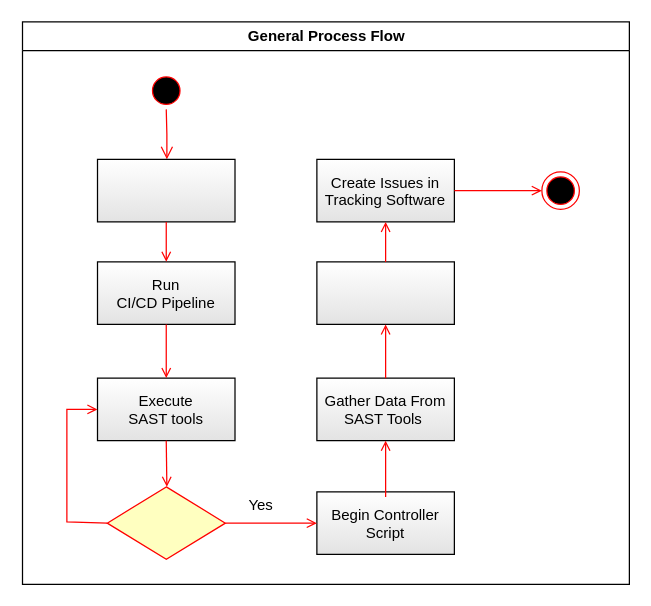
Image size: 651x606. Some labels were removed from this diagram. Each missing label, with the centre of its shape:
"Nightly Timer or Developer Merge Request" belongs at point 165,190.
"Process Data and Assemble Payloads" belongs at point 385,292.
"tools complete" belongs at point 165,522.
